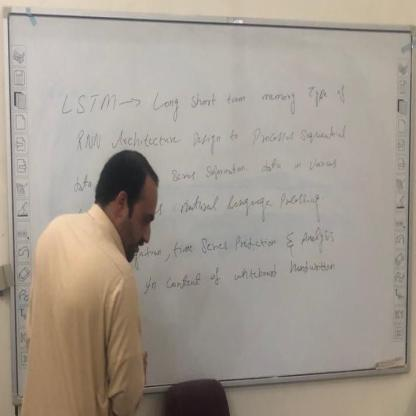Handwritten text: (58, 75, 361, 120), (68, 120, 360, 156), (137, 260, 343, 296), (166, 224, 349, 258), (174, 186, 334, 221), (165, 158, 348, 185)
Lecturer: (19, 141, 178, 399)
Whiteboard: (2, 13, 414, 409)
